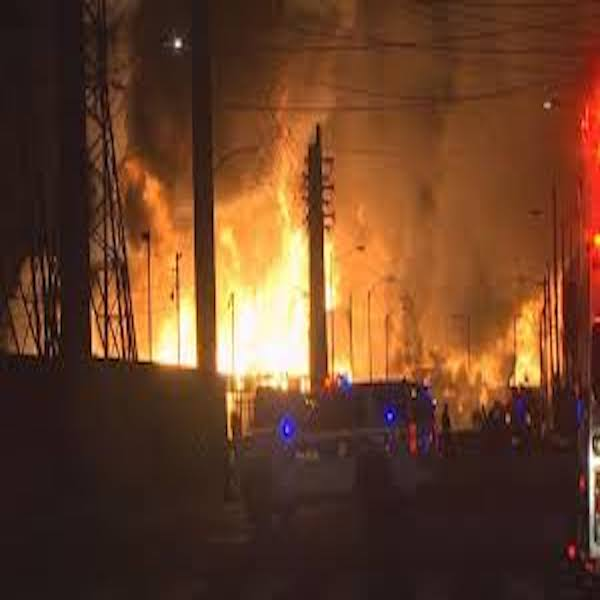fire: (218, 201, 309, 388), (131, 177, 195, 365), (328, 235, 399, 381), (480, 338, 541, 391)
